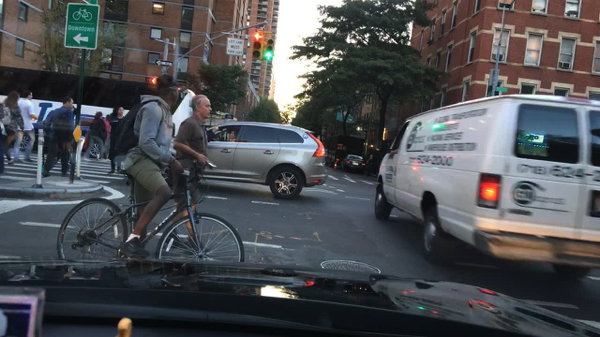bike: (55, 160, 245, 264)
car: (371, 93, 598, 281), (170, 122, 329, 200), (341, 153, 367, 175)
person: (162, 95, 219, 253), (42, 97, 75, 179), (15, 88, 39, 166), (0, 93, 26, 164), (107, 106, 127, 175), (82, 111, 107, 161), (104, 114, 112, 160)
rider: (119, 74, 188, 260)
traffic light: (252, 30, 263, 60), (264, 36, 273, 62), (147, 78, 159, 85)
traffic sign: (63, 3, 101, 49), (226, 39, 243, 56), (73, 126, 82, 143), (491, 69, 499, 86), (154, 59, 173, 66), (492, 86, 507, 91), (225, 114, 234, 120), (84, 1, 98, 4)
